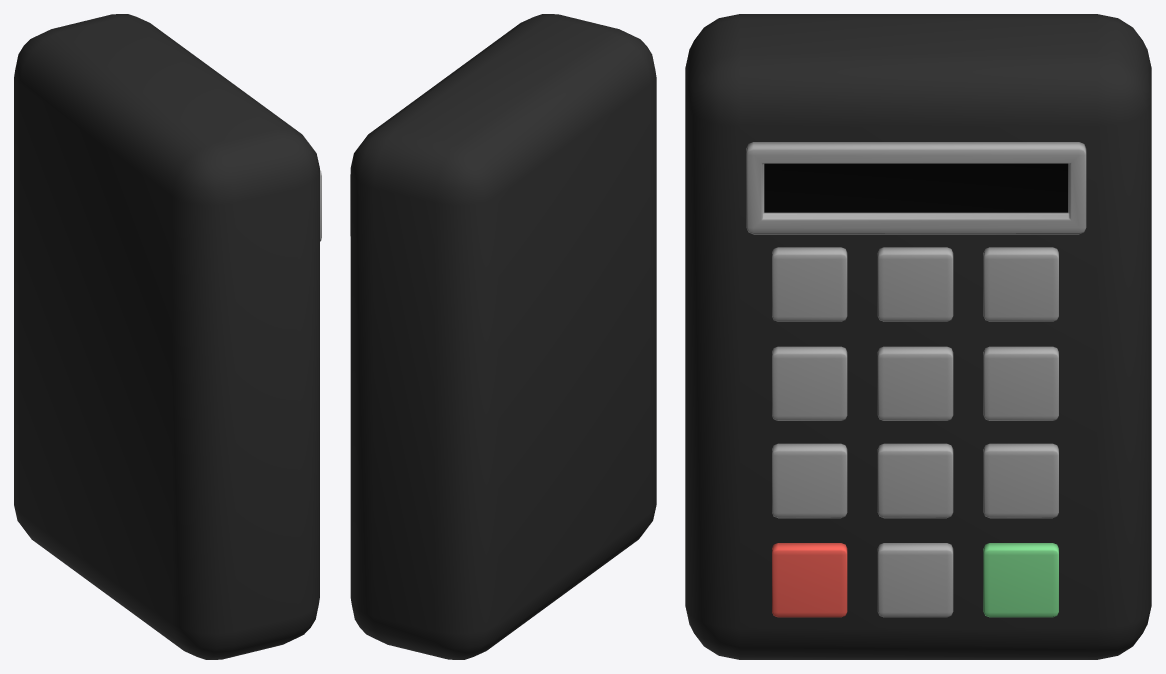
Rendered from Keypad.fbx.
The picture shows the model from 3 angles, left to right: view 1: azimuth 30°, elevation 25°; view 2: azimuth 150°, elevation 25°; view 3: azimuth 270°, elevation 25°; orthographic projection. The views are drawn at different scales.
Parts seen in each view (by area): view 1: CajaNegra; view 2: CajaNegra; view 3: CajaNegra, Pantalla, Boton8, Boton9, Boton2, Boton5, Boton0, Boton7, Boton1, Boton4, Boton3, Boton6 (+2 smaller).
Part boxes in pixels (bbox=[...]): CajaNegra: bbox=[14, 14, 319, 659]; CajaNegra: bbox=[350, 14, 656, 659]; CajaNegra: bbox=[685, 14, 1151, 659]; Pantalla: bbox=[746, 142, 1086, 234]; Boton8: bbox=[877, 443, 953, 518]; Boton9: bbox=[983, 443, 1058, 518]; Boton2: bbox=[877, 247, 953, 321]; Boton5: bbox=[877, 346, 953, 420]; Boton0: bbox=[877, 543, 953, 617]; Boton7: bbox=[772, 443, 847, 518]; Boton1: bbox=[772, 247, 847, 321]; Boton4: bbox=[772, 346, 847, 420]; Boton3: bbox=[983, 247, 1058, 321]; Boton6: bbox=[983, 346, 1058, 420].
Size of the model in its own units: 62.65 by 200 by 141.
